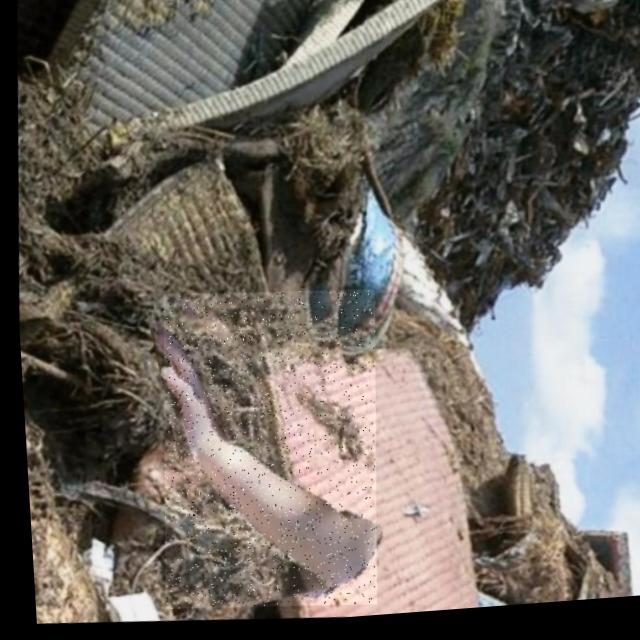Person in Rubble: (142, 284, 384, 622)
